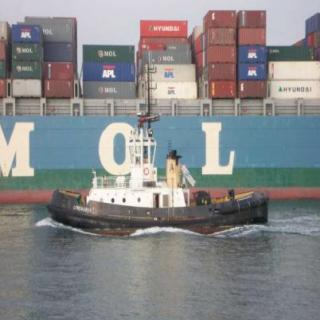Tug Boat: (48, 115, 274, 231)
